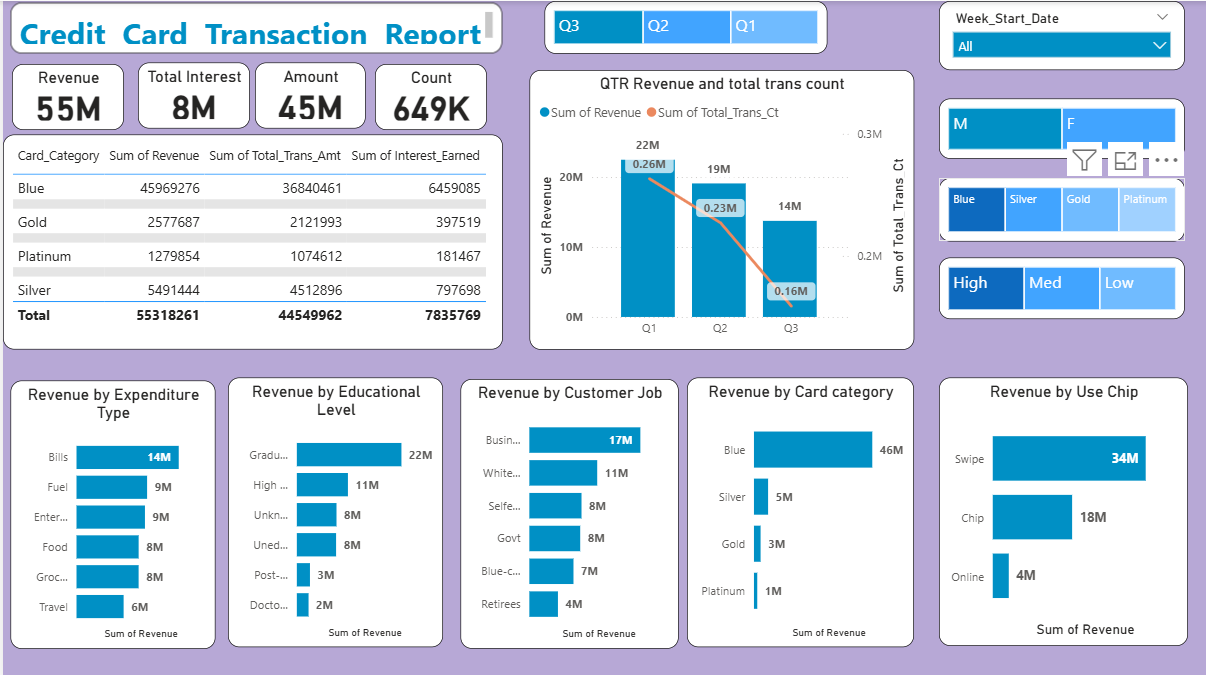

This screenshot's page, from the dashboard's own definition file:
{"tool":"powerbi","page":{"name":"CC  Transaction","canvas":[1280,720],"ordinal":1},"visuals":[{"type":"textbox","box":[8.6,1.4,521.4,54.3],"z":0},{"type":"lineStackedColumnComboChart","title":"QTR Revenue and total trans count","fields":{"Category":["cc_detail.Qtr"],"Y":["Sum(cc_detail.Revenue)"],"Y2":["Sum(cc_detail.Total_Trans_Ct)"]},"box":[557.8,73.4,407.8,296.9],"z":1000},{"type":"barChart","title":"Revenue by Expenditure Type","fields":{"Y":["Sum(cc_detail.Revenue)"],"Category":["cc_detail.Exp_Type"]},"box":[7.8,403.1,217.2,284.4],"z":2000},{"type":"barChart","title":"Revenue by Educational Level","fields":{"Y":["Sum(cc_detail.Revenue)"],"Category":["cust_detail.Education_Level"]},"box":[239.1,400,228.1,285.9],"z":3000},{"type":"barChart","title":"Revenue by Customer Job","fields":{"Y":["Sum(cc_detail.Revenue)"],"Category":["cust_detail.Customer_Job"]},"box":[484.4,401.6,231.2,285.9],"z":4000},{"type":"barChart","title":"Revenue by Card category","fields":{"Y":["Sum(cc_detail.Revenue)"],"Category":["cc_detail.Card_Category"]},"box":[725,400,240.6,285.9],"z":5000},{"type":"barChart","title":"Revenue by Use Chip","fields":{"Y":["Sum(cc_detail.Revenue)"],"Category":["cc_detail.Use_Chip"]},"box":[992.2,400,264.1,284.4],"z":6000},{"type":"tableEx","fields":{"Values":["cc_detail.Card_Category","Sum(cc_detail.Revenue)","Sum(cc_detail.Total_Trans_Amt)","Sum(cc_detail.Interest_Earned)"]},"box":[0,142.2,529.7,228.1],"z":7000},{"type":"card","title":"Revenue","fields":{"Values":["Sum(cc_detail.Revenue)"]},"box":[8.8,66.2,118.8,70],"z":8000},{"type":"card","title":"Amount","fields":{"Values":["Sum(cc_detail.Total_Trans_Amt)"]},"box":[267.5,65,117.5,70],"z":9000},{"type":"card","title":"Total Interest","fields":{"Values":["Sum(cc_detail.Interest_Earned)"]},"box":[142.5,65,118.8,70],"z":10000},{"type":"card","title":"Count","fields":{"Values":["Sum(cc_detail.Total_Trans_Ct)"]},"box":[393.8,66.2,118.8,70],"z":11000},{"type":"slicer","fields":{"Values":["cc_detail.Week_Start_Date"]},"box":[992.2,0,260.9,73.4],"z":12000},{"type":"treemap","fields":{"Group":["cc_detail.Qtr"],"Values":["Avg(cc_detail.Client_Num)"]},"box":[574.3,0,300,55.7],"z":13000},{"type":"treemap","fields":{"Group":["cust_detail.Gender"],"Values":["Avg(cc_detail.Client_Num)"]},"box":[992.2,103.1,260.9,64.1],"z":14000},{"type":"treemap","fields":{"Group":["cc_detail.Card_Category"],"Values":["Avg(cc_detail.Client_Num)"]},"box":[992.2,187.5,260.9,67.2],"z":15000},{"type":"treemap","fields":{"Group":["cust_detail.IncomeGroup"],"Values":["Avg(cc_detail.Client_Num)"]},"box":[992.2,271.9,260.9,65.6],"z":16000}]}

Visuals, with their boxes in screenshot pixels (x1, y1, x2, y2), scaled from the page's 1280x720 canvas onto the 1206x675 screenshot:
textbox: [left=8, top=1, right=499, bottom=52]
"QTR Revenue and total trans count" lineStackedColumnComboChart: [left=526, top=69, right=910, bottom=347]
"Revenue by Expenditure Type" barChart: [left=7, top=378, right=212, bottom=645]
"Revenue by Educational Level" barChart: [left=225, top=375, right=440, bottom=643]
"Revenue by Customer Job" barChart: [left=456, top=376, right=674, bottom=645]
"Revenue by Card category" barChart: [left=683, top=375, right=910, bottom=643]
"Revenue by Use Chip" barChart: [left=935, top=375, right=1184, bottom=642]
tableEx - cc_detail.Card_Category x Sum(cc_detail.Revenue): [left=0, top=133, right=499, bottom=347]
"Revenue" card: [left=8, top=62, right=120, bottom=128]
"Amount" card: [left=252, top=61, right=363, bottom=127]
"Total Interest" card: [left=134, top=61, right=246, bottom=127]
"Count" card: [left=371, top=62, right=483, bottom=128]
slicer - cc_detail.Week_Start_Date: [left=935, top=0, right=1181, bottom=69]
treemap - cc_detail.Qtr x Avg(cc_detail.Client_Num): [left=541, top=0, right=824, bottom=52]
treemap - cust_detail.Gender x Avg(cc_detail.Client_Num): [left=935, top=97, right=1181, bottom=157]
treemap - cc_detail.Card_Category x Avg(cc_detail.Client_Num): [left=935, top=176, right=1181, bottom=239]
treemap - cust_detail.IncomeGroup x Avg(cc_detail.Client_Num): [left=935, top=255, right=1181, bottom=316]
